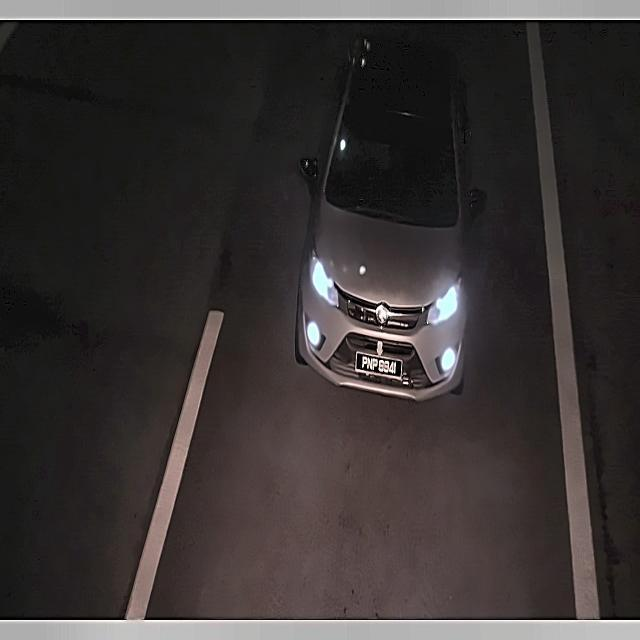car: (355, 348, 404, 383)
